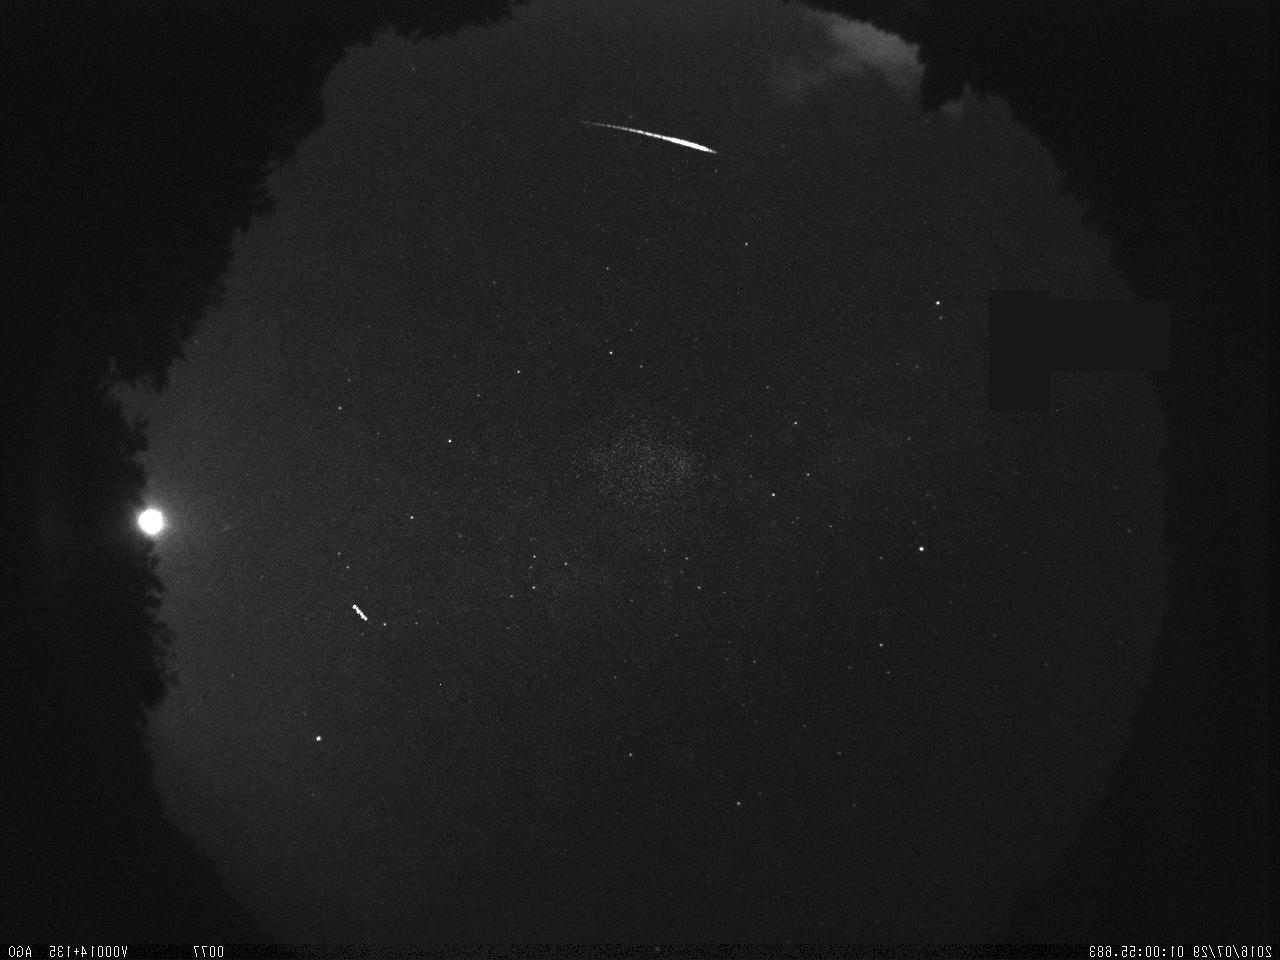meteor: (576, 112, 723, 163)
satelite: (348, 601, 373, 624)
